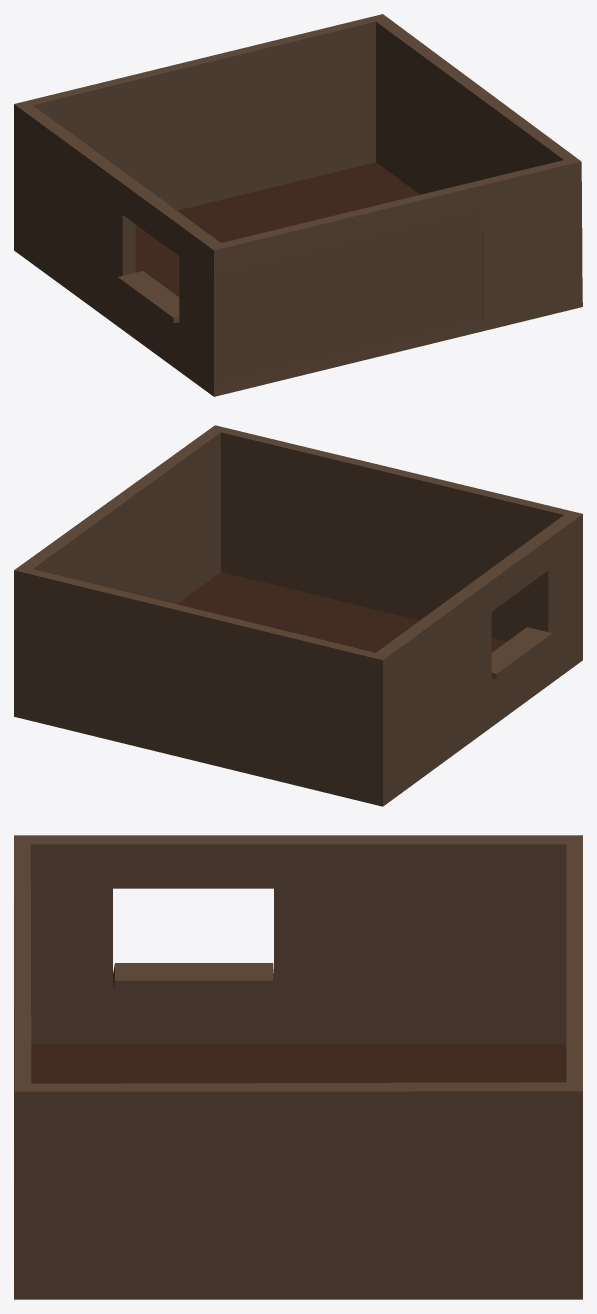
The model's file is Sala.fbx.
3 renders of one model, top to bottom at view 1: azimuth 30°, elevation 25°; view 2: azimuth 150°, elevation 25°; view 3: azimuth 270°, elevation 25°, orthographic. The views are drawn at different scales.
Parts seen in each view (by area): view 1: Sala; view 2: Sala; view 3: Sala.
Part boxes in pixels (<box>): Sala: <box>14,14,582,396</box>; Sala: <box>14,425,582,806</box>; Sala: <box>14,835,582,1299</box>.
Size of the model in its own units: 931 by 348 by 863.
